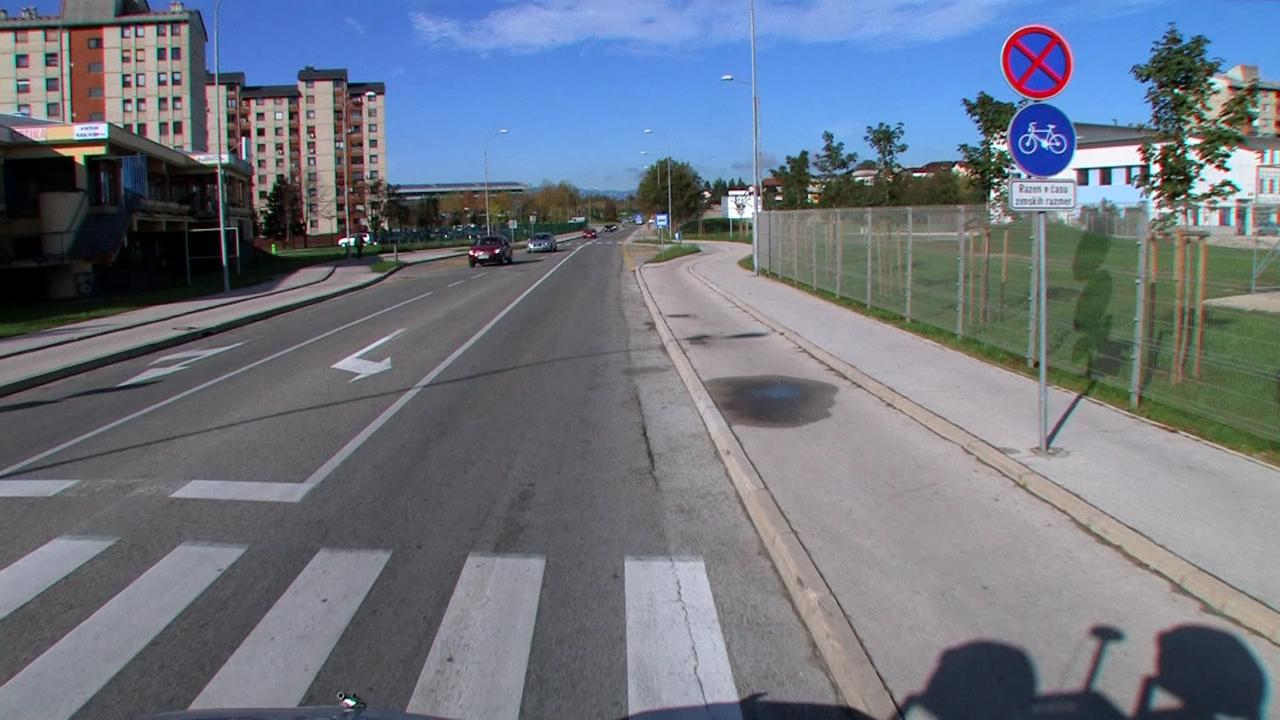Rectangle: (1009, 178, 1079, 214)
Round: (1000, 23, 1074, 99), (1006, 102, 1078, 178)
